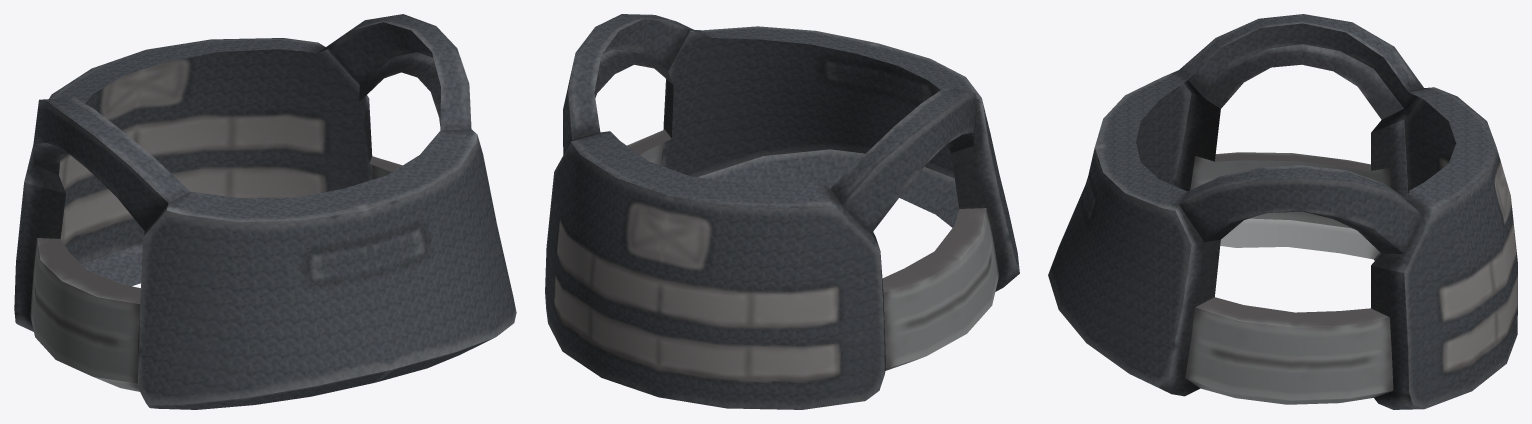
The model's file is IG_Armor_LV2.fbx.
3 views of the same model, side by side, from view 1: azimuth 30°, elevation 25°; view 2: azimuth 150°, elevation 25°; view 3: azimuth 270°, elevation 25° (orthographic). The views are drawn at different scales.
Parts seen in each view (by area): view 1: Clothes_LV3; view 2: Clothes_LV3; view 3: Clothes_LV3.
Part boxes in pixels (left/top/right/bottom): Clothes_LV3: left=14, top=14, right=516, bottom=409; Clothes_LV3: left=545, top=14, right=1019, bottom=409; Clothes_LV3: left=1048, top=14, right=1517, bottom=409.
Bounding box in the file's own units: 0.5996 × 0.3919 × 0.6603.
